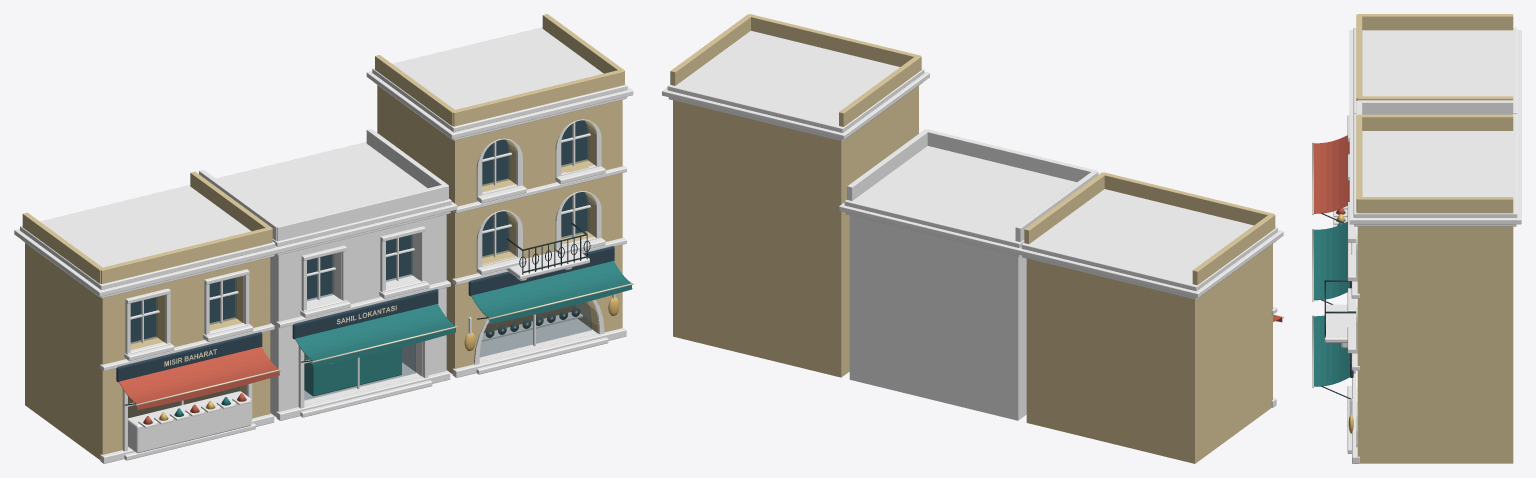
File: DistrictBlock_2_1.glb
3 renders of one model, left to right at view 1: azimuth 30°, elevation 25°; view 2: azimuth 150°, elevation 25°; view 3: azimuth 270°, elevation 25°, orthographic.
Parts seen in each view (by area): view 1: RK_DistrictBlock_2_1_LC_Lime, RK_DistrictBlock_2_1_LC_Ochre, RK_DistrictBlock_2_1_LC_Coral, RK_DistrictBlock_2_1_LC_Ink, RK_DistrictBlock_2_1_LC_Teal, RK_DistrictBlock_2_1_LC_Glass, RK_DistrictBlock_2_1_LC_Wood, RK_DistrictBlock_2_1_LC_Red, RK_DistrictBlock_2_1_LC_Canvas, RK_DistrictBlock_2_1_LC_Iron, RK_DistrictBlock_2_1_LC_Interior; view 2: RK_DistrictBlock_2_1_LC_Ochre, RK_DistrictBlock_2_1_LC_Lime, RK_DistrictBlock_2_1_LC_Coral; view 3: RK_DistrictBlock_2_1_LC_Ochre, RK_DistrictBlock_2_1_LC_Lime, RK_DistrictBlock_2_1_LC_Teal, RK_DistrictBlock_2_1_LC_Red, RK_DistrictBlock_2_1_LC_Coral, RK_DistrictBlock_2_1_LC_Canvas, RK_DistrictBlock_2_1_LC_Iron.
Boxes of the visible parts, x1,y1,x2,y2 form: RK_DistrictBlock_2_1_LC_Lime: [14, 27, 633, 463]; RK_DistrictBlock_2_1_LC_Ochre: [22, 14, 624, 459]; RK_DistrictBlock_2_1_LC_Coral: [199, 128, 448, 416]; RK_DistrictBlock_2_1_LC_Ink: [116, 120, 614, 382]; RK_DistrictBlock_2_1_LC_Teal: [174, 261, 632, 416]; RK_DistrictBlock_2_1_LC_Glass: [128, 120, 591, 417]; RK_DistrictBlock_2_1_LC_Wood: [128, 122, 615, 453]; RK_DistrictBlock_2_1_LC_Red: [119, 347, 279, 424]; RK_DistrictBlock_2_1_LC_Canvas: [135, 283, 633, 405]; RK_DistrictBlock_2_1_LC_Iron: [124, 222, 590, 405]; RK_DistrictBlock_2_1_LC_Interior: [128, 305, 575, 417]; RK_DistrictBlock_2_1_LC_Ochre: [670, 14, 1275, 463]; RK_DistrictBlock_2_1_LC_Lime: [662, 31, 1283, 407]; RK_DistrictBlock_2_1_LC_Coral: [847, 129, 1098, 420]; RK_DistrictBlock_2_1_LC_Ochre: [1356, 14, 1513, 463]; RK_DistrictBlock_2_1_LC_Lime: [1324, 27, 1521, 463]; RK_DistrictBlock_2_1_LC_Teal: [1313, 221, 1349, 386]; RK_DistrictBlock_2_1_LC_Red: [1313, 135, 1349, 214]; RK_DistrictBlock_2_1_LC_Coral: [1356, 100, 1513, 115]; RK_DistrictBlock_2_1_LC_Canvas: [1312, 142, 1313, 387]; RK_DistrictBlock_2_1_LC_Iron: [1321, 213, 1355, 399].
Size of the model in its own units: 19.1 by 9.02 by 6.44.
